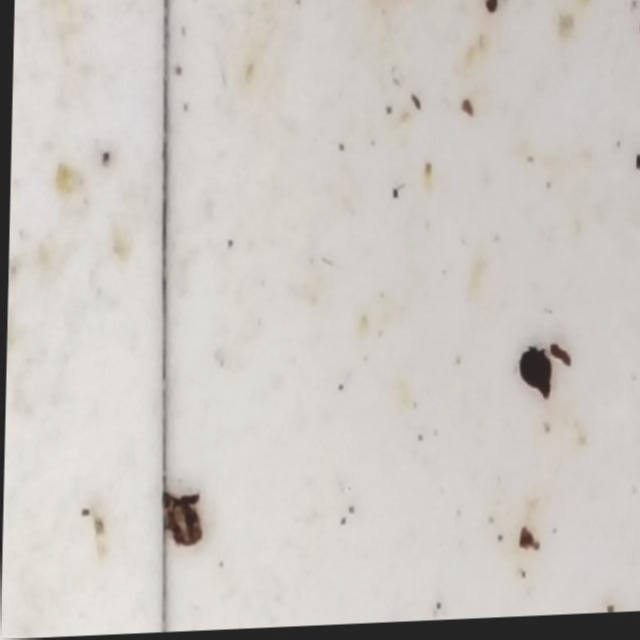varroa: (517, 353, 552, 393)
